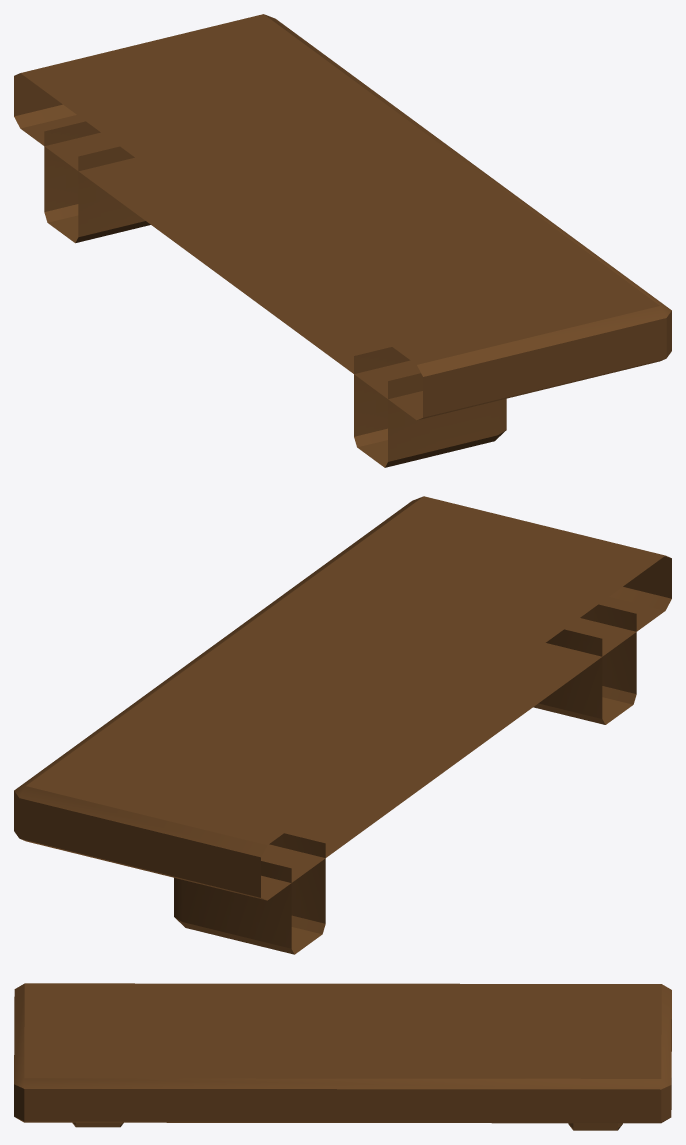
The model's file is Small shelf.fbx.
3 views of the same model, one above another, from view 1: azimuth 30°, elevation 25°; view 2: azimuth 150°, elevation 25°; view 3: azimuth 270°, elevation 25° (orthographic). The views are drawn at different scales.
Parts seen in each view (by area): view 1: Small shelf; view 2: Small shelf; view 3: Small shelf.
Part boxes in pixels (x1=…): Small shelf: x1=14, y1=14, x2=671, y2=467; Small shelf: x1=14, y1=496, x2=671, y2=954; Small shelf: x1=14, y1=983, x2=671, y2=1130.
Bounding box in the file's own units: 30.62 × 14.8 × 85.02.
Materials: 1 (1 with a texture image).
